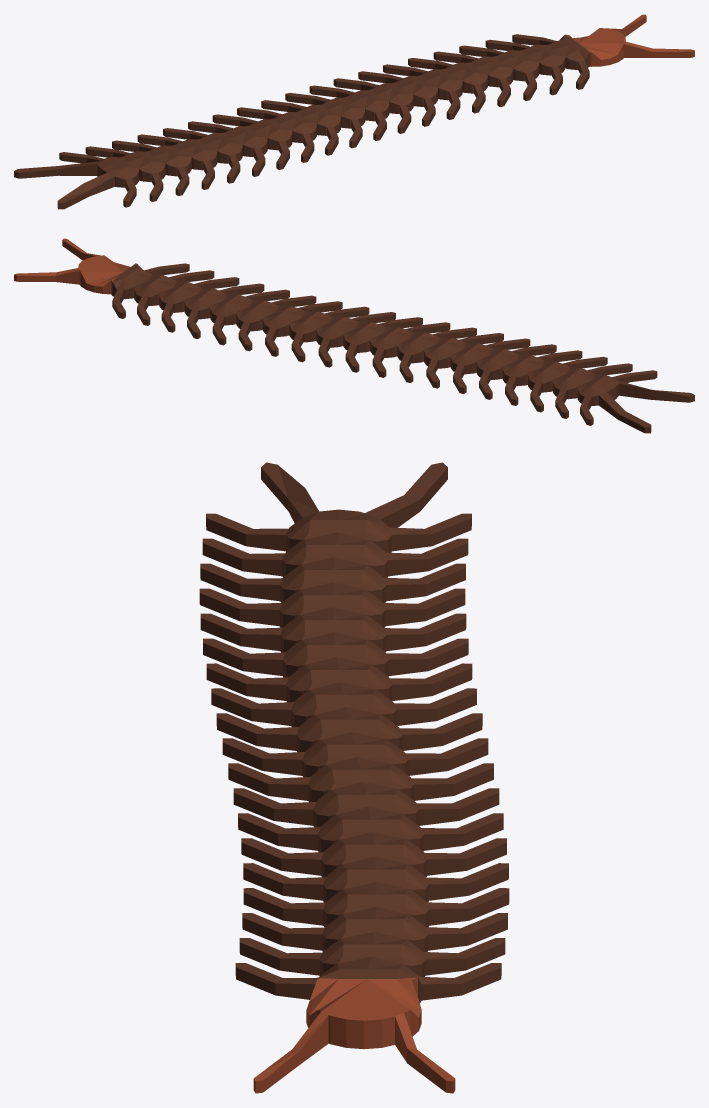
The model's file is NEW_RECOVERY_057_LOD1.fbx.
3 renders of one model, top to bottom at view 1: azimuth 30°, elevation 25°; view 2: azimuth 150°, elevation 25°; view 3: azimuth 270°, elevation 25°, orthographic. The views are drawn at different scales.
Parts seen in each view (by area): view 1: Centipede_Whole; view 2: Centipede_Whole; view 3: Centipede_Whole.
Boxes of the visible parts, bbox=[...] form: Centipede_Whole: bbox=[14, 14, 694, 209]; Centipede_Whole: bbox=[14, 238, 694, 433]; Centipede_Whole: bbox=[199, 462, 509, 1093].
Size of the model in its own units: 1067 by 225 by 24.51.
